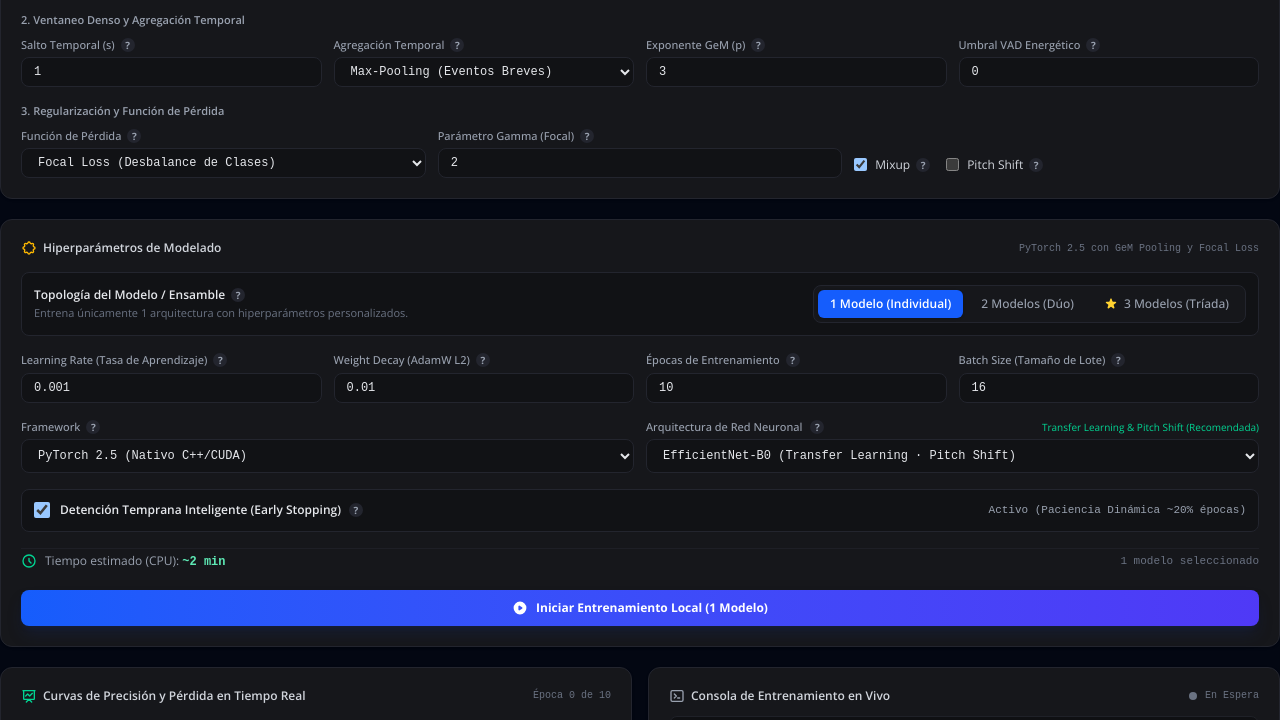
Test: TrainingView - Parameter Help & Explanations Tooltips › shows explanation on hover and hides on mouse leave for a hyperparameter (learning_rate)
(page scrolled)
Hover in
Hover over the button named "ver ayuda: learning_rate" at (220, 360), box left=213, top=353, right=227, bottom=367
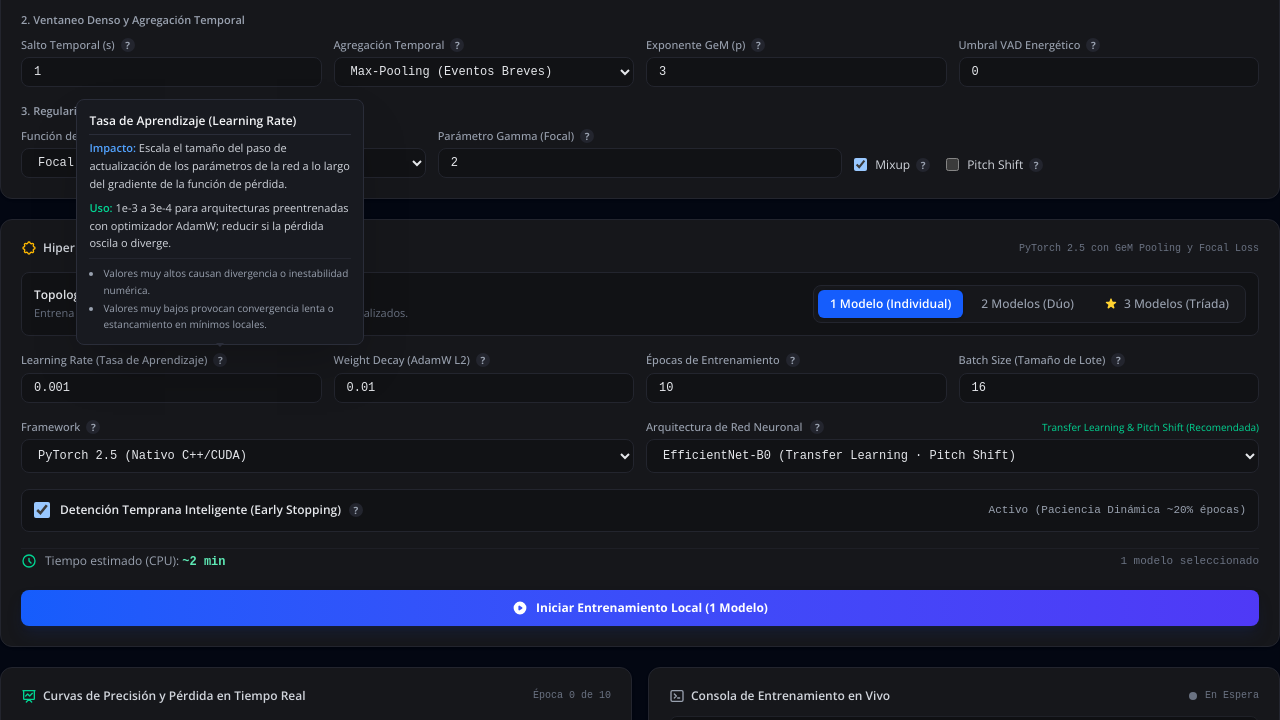
Check: the tooltip is shown, box left=76, top=99, right=364, bottom=345
Check: the text "tamaño del paso de actualización" is shown, box left=89, top=140, right=350, bottom=191
Check: the text "AdamW" is shown, box left=89, top=200, right=349, bottom=250
Hover out
Move the pointer off the button named "ver ayuda: learning_rate", box left=213, top=353, right=227, bottom=367
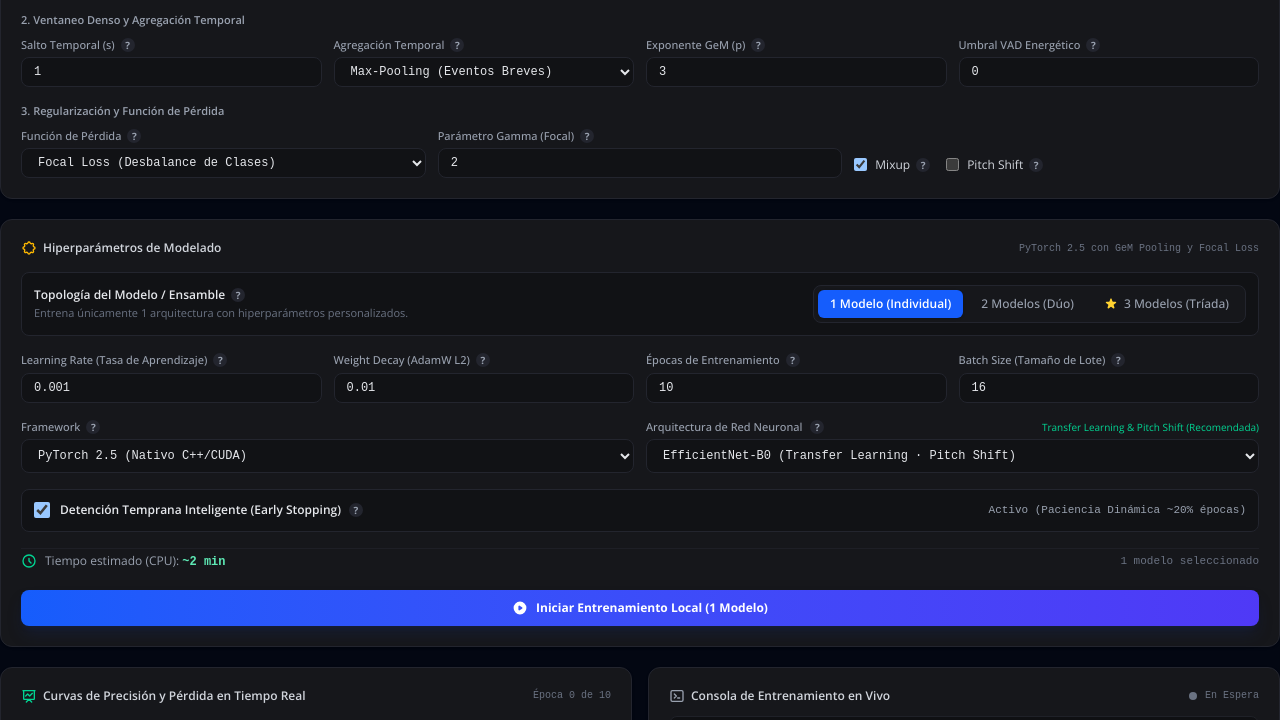
Check: the tooltip is gone
